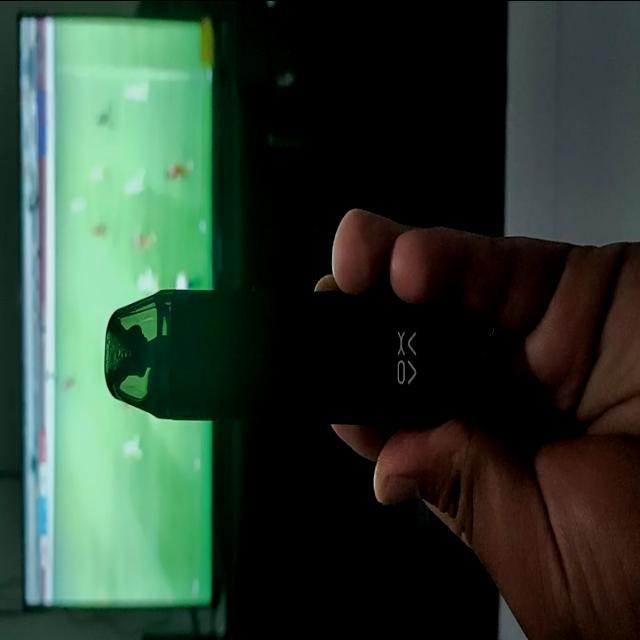Hazard: (102, 293, 472, 427)
